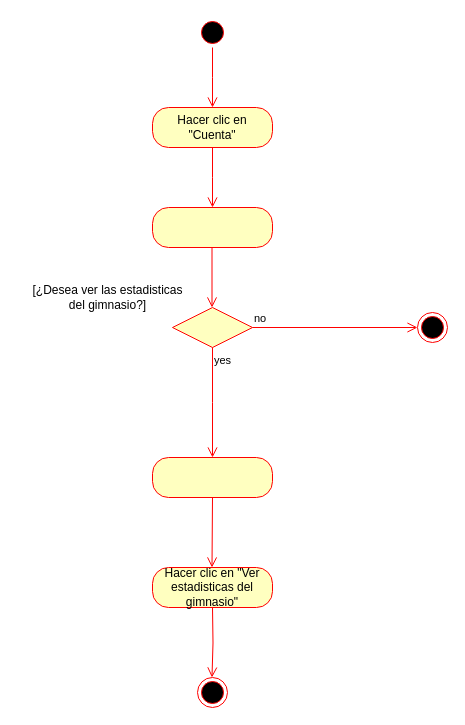
The diagram is 465 pixels wide and 725 high, and some of its shapes have lost their labels. Each missing label, with the box of its shape:
Scrollear con el mouse haciala parte inferior de la pagina: (152, 456, 272, 498)
Tocar el boton "administrar perfil": (152, 206, 272, 248)
